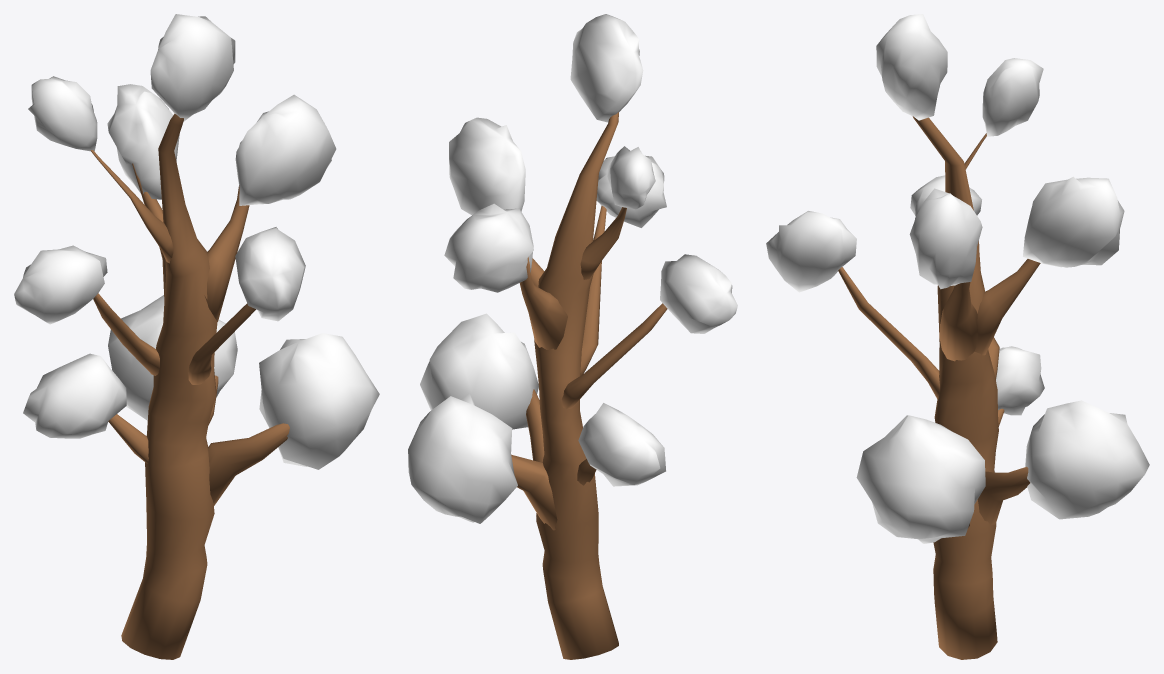
The model's file is Tree Horn.fbx.
3 renders of one model, left to right at view 1: azimuth 30°, elevation 25°; view 2: azimuth 150°, elevation 25°; view 3: azimuth 270°, elevation 25°, orthographic. The views are drawn at different scales.
Visible parts, largest first — view 1: Tree Horn - takumoaki (MAVG); view 2: Tree Horn - takumoaki (MAVG); view 3: Tree Horn - takumoaki (MAVG).
Boxes of the visible parts, x1,y1,x2,y2 form: Tree Horn - takumoaki (MAVG): [14, 14, 379, 659]; Tree Horn - takumoaki (MAVG): [408, 14, 737, 659]; Tree Horn - takumoaki (MAVG): [766, 14, 1149, 659].
Size of the model in its own units: 77.57 by 142 by 77.62.
